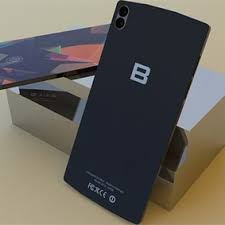bphone: (61, 1, 213, 225)
